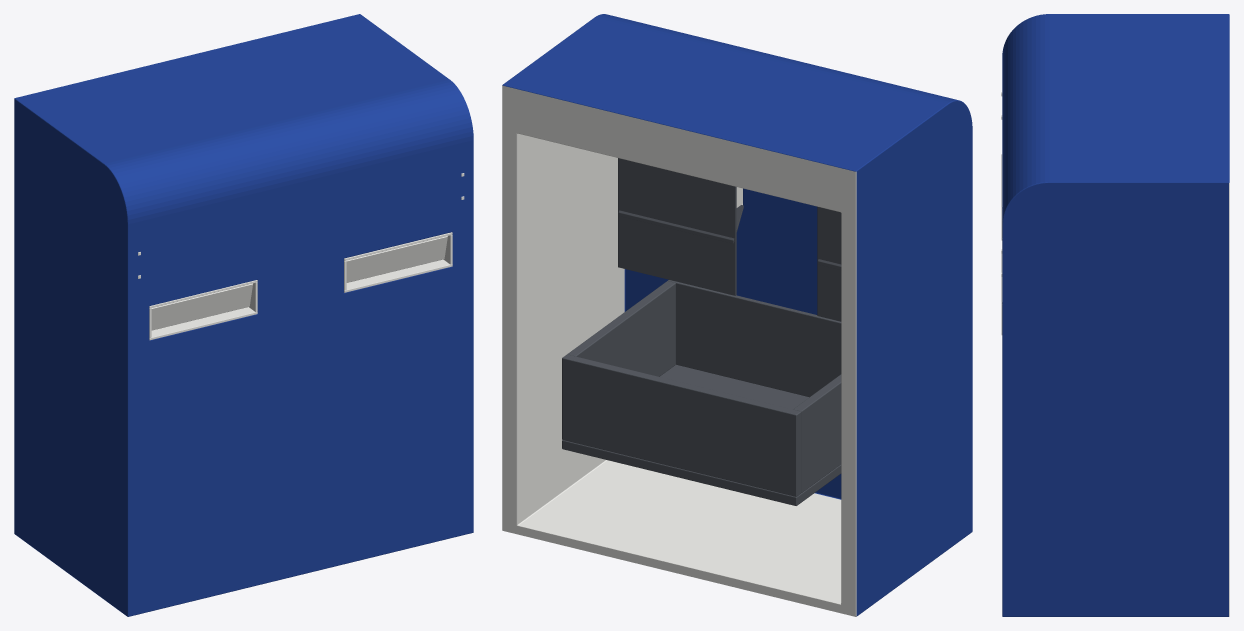
Rendered from interior-return-chute.glb.
3 views of the same model, side by side, from view 1: azimuth 30°, elevation 25°; view 2: azimuth 150°, elevation 25°; view 3: azimuth 270°, elevation 25° (orthographic). The views are drawn at different scales.
Parts seen in each view (by area): view 1: ChuteLaminate, ChuteSteel, ChuteFlap, ChuteFlapRight; view 2: ChuteLaminate, ChuteReveal; view 3: ChuteLaminate, ChuteSteel.
Boxes of the visible parts, x1,y1,x2,y2 form: ChuteLaminate: (14,14,473,616); ChuteSteel: (138,173,464,340); ChuteFlap: (151,283,252,330); ChuteFlapRight: (346,236,447,282); ChuteLaminate: (502,14,972,616); ChuteReveal: (562,158,841,505); ChuteLaminate: (1002,14,1229,616); ChuteSteel: (1001,92,1002,334).
Size of the model in its own units: 3.2 by 3.85 by 1.83.
